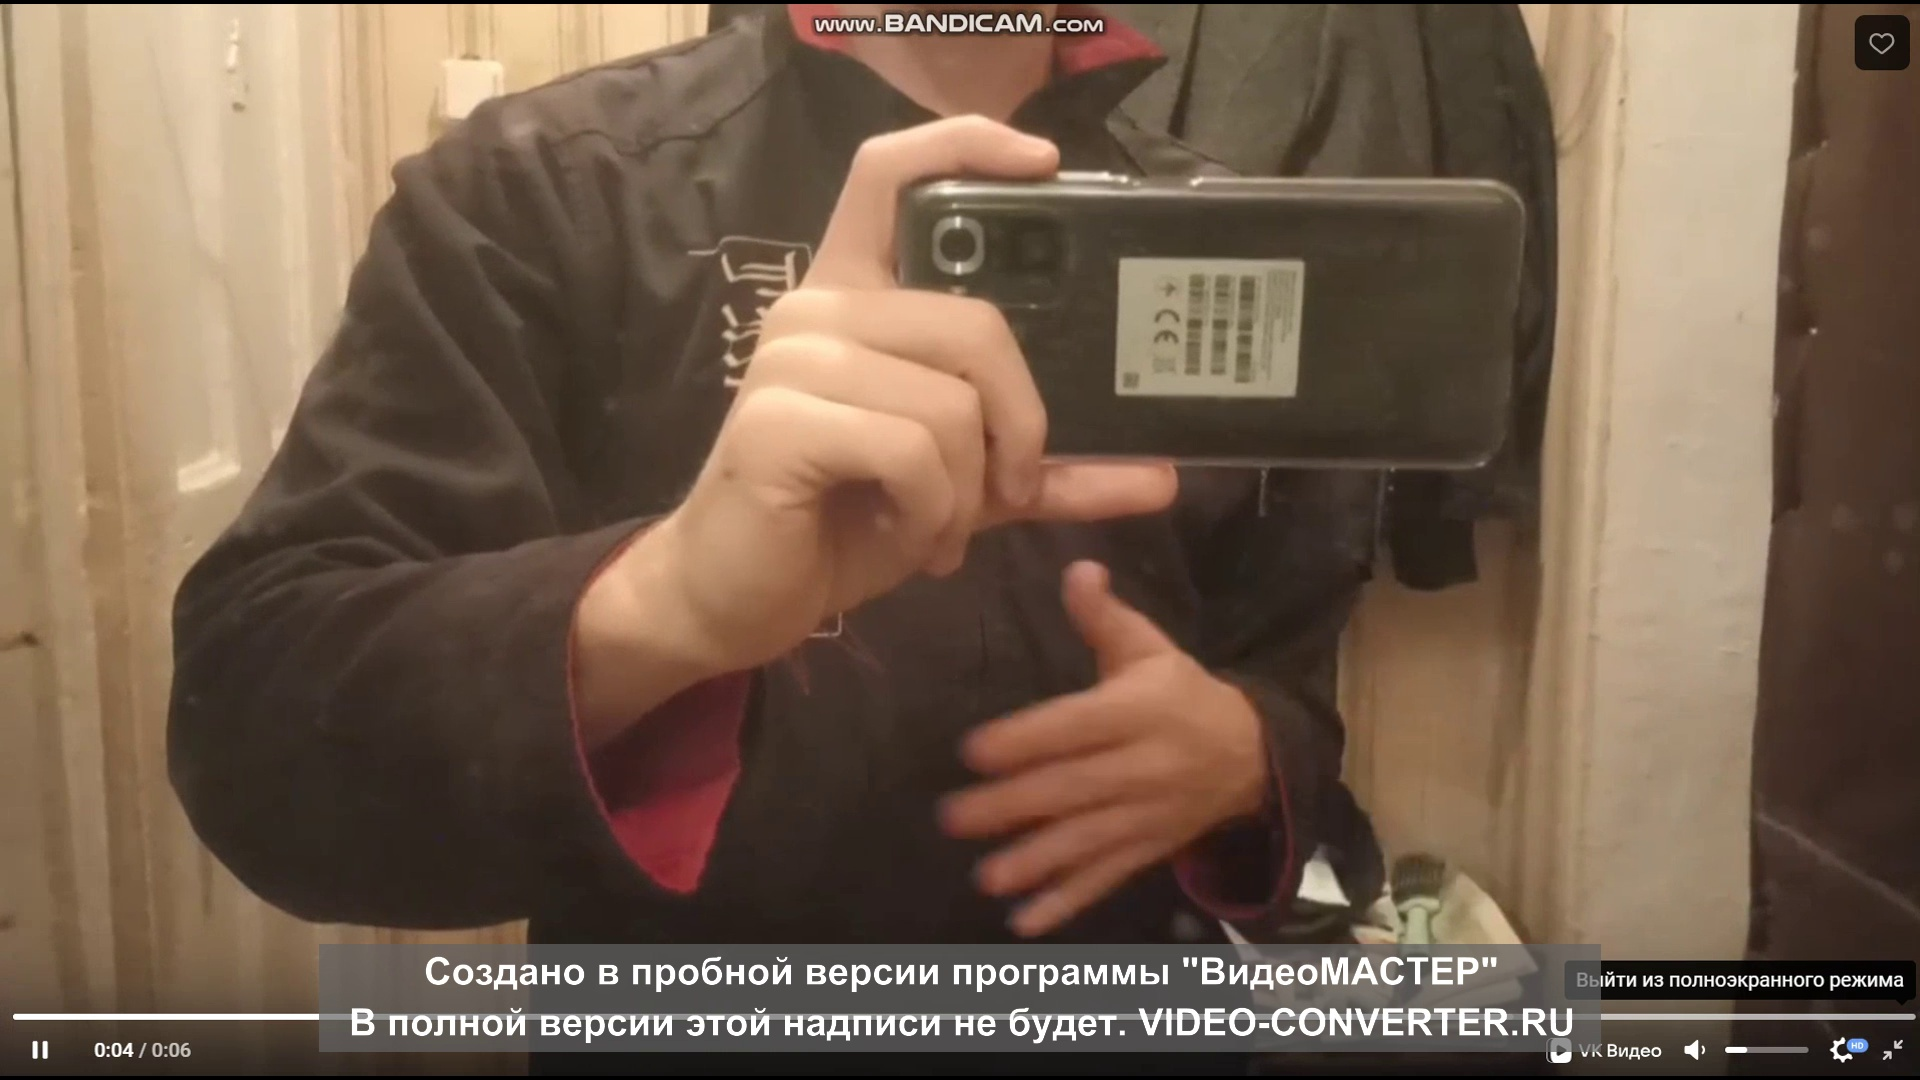Кисть: (942, 556, 1240, 942)
